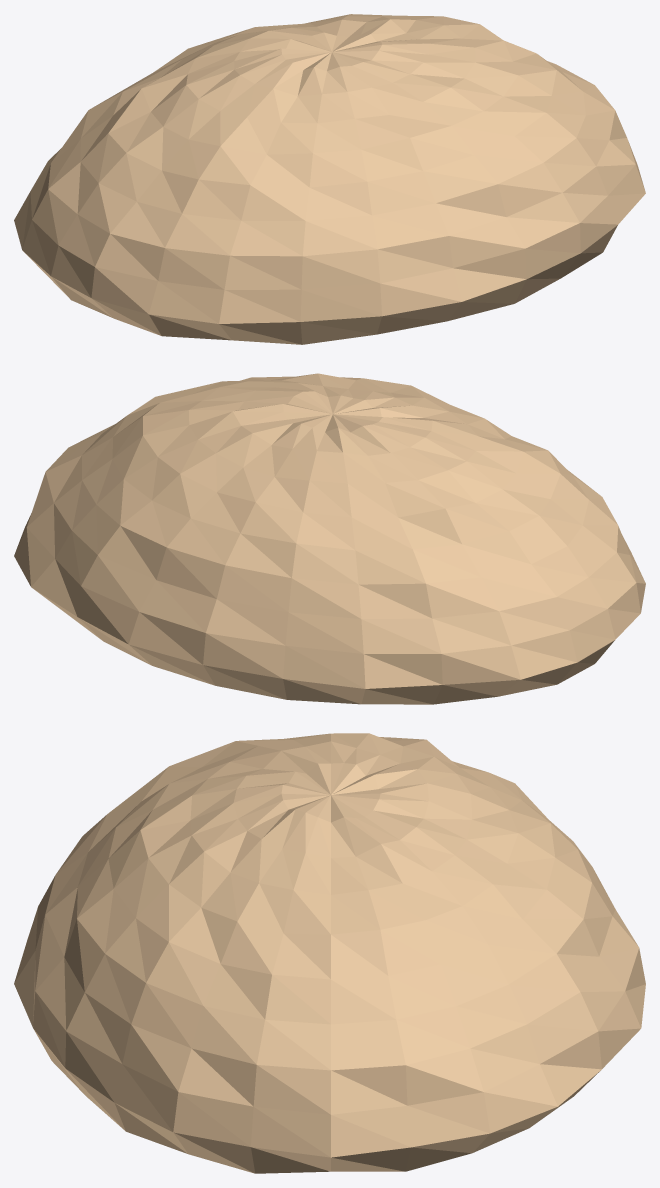
The model's file is desert-canyons-and-oases-slickrock-dome-cf1b475d__20935.glb.
3 views of the same model, one above another, from view 1: azimuth 30°, elevation 25°; view 2: azimuth 150°, elevation 25°; view 3: azimuth 270°, elevation 25° (orthographic). The views are drawn at different scales.
Parts seen in each view (by area): view 1: slickrock-dome; view 2: slickrock-dome; view 3: slickrock-dome.
Boxes of the visible parts, x1=… form: slickrock-dome: x1=14, y1=14, x2=645, y2=344; slickrock-dome: x1=14, y1=373, x2=645, y2=704; slickrock-dome: x1=14, y1=733, x2=645, y2=1173.
Size of the model in its own units: 8.91 by 2.82 by 6.97.
